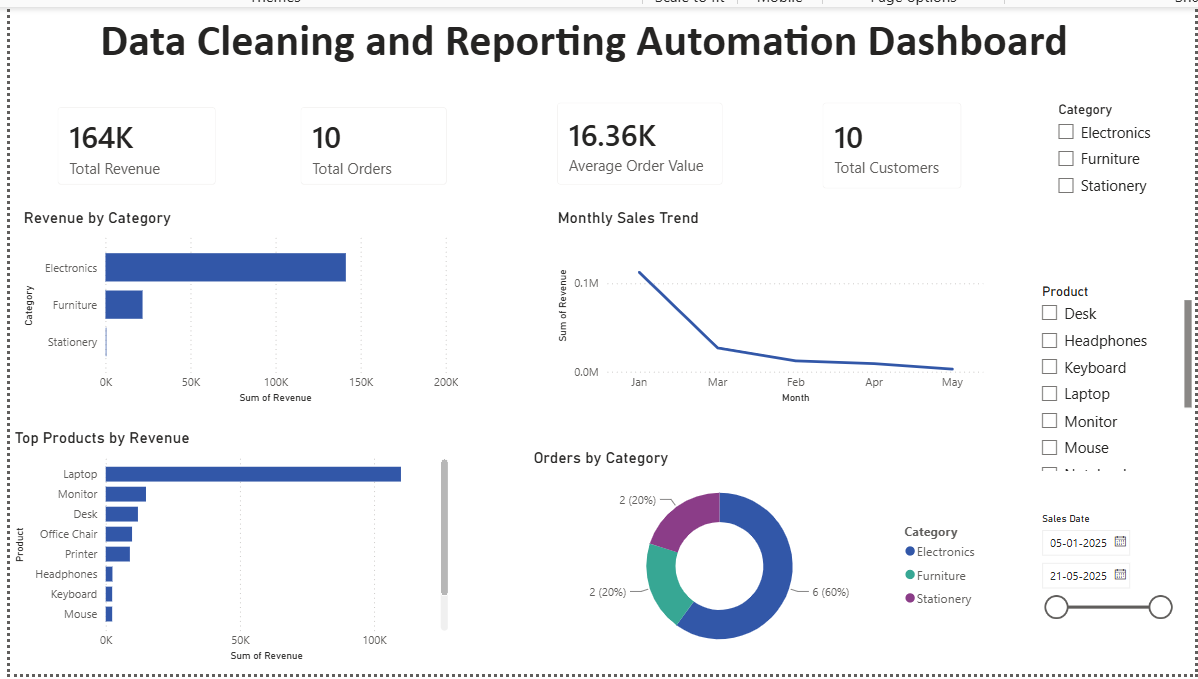

The page's visual inventory and layout, read from the dashboard file:
{"tool":"powerbi","page":{"name":"Page 1","canvas":[1280,720],"ordinal":0},"visuals":[{"type":"cardVisual","fields":{"Data":["cleaned_sales_data.Total Revenue"]},"box":[34,90.7,205.6,118.2],"z":0},{"type":"cardVisual","fields":{"Data":["cleaned_sales_data.Total Orders"]},"box":[296.3,90.7,192.7,118.2],"z":1},{"type":"cardVisual","fields":{"Data":["cleaned_sales_data.Average Order Value"]},"box":[573.2,85.8,213.7,123.1],"z":2},{"type":"cardVisual","fields":{"Data":["cleaned_sales_data.Total Customers"]},"box":[859.8,85.8,184.6,127.9],"z":3},{"type":"clusteredBarChart","title":"Revenue by Category","fields":{"Category":["cleaned_sales_data.Category"],"Y":["Sum(cleaned_sales_data.Revenue)"]},"box":[9.7,217,479.3,215.4],"z":4},{"type":"lineChart","title":"Monthly Sales Trend","fields":{"Category":["cleaned_sales_data.Month"],"Y":["Sum(cleaned_sales_data.Revenue)"]},"box":[586.2,217,469.6,215.4],"z":5},{"type":"clusteredBarChart","title":"Top Products  by Revenue","fields":{"Category":["cleaned_sales_data.Product"],"Y":["Sum(cleaned_sales_data.Revenue)"]},"box":[0,455,477.7,255.8],"z":6},{"type":"donutChart","title":"Orders by Category","fields":{"Category":["cleaned_sales_data.Category"],"Y":["CountNonNull(cleaned_sales_data.Order ID)"]},"box":[560.3,476.1,495.5,234.8],"z":7},{"type":"slicer","fields":{"Values":["cleaned_sales_data.Category"]},"box":[1118.9,97.2,144.1,150.6],"z":8},{"type":"slicer","fields":{"Values":["cleaned_sales_data.Product"]},"box":[1101.1,293.1,179.7,212.1],"z":9},{"type":"slicer","fields":{"Values":["cleaned_sales_data.Sales Date"]},"box":[1101.1,540.8,161.9,134.4],"z":10},{"type":"textbox","box":[92.3,0,1075.2,69.6],"z":11}]}

Visuals, with their boxes on the page's 1280x720 design canvas (x1, y1, x2, y2). These are canvas units, not pixel positions in the 1198x679 screenshot, which may show the page scaled, cropped or inside an application window:
cardVisual - cleaned_sales_data.Total Revenue: 34/91/240/209
cardVisual - cleaned_sales_data.Total Orders: 296/91/489/209
cardVisual - cleaned_sales_data.Average Order Value: 573/86/787/209
cardVisual - cleaned_sales_data.Total Customers: 860/86/1044/214
"Revenue by Category" clusteredBarChart: 10/217/489/432
"Monthly Sales Trend" lineChart: 586/217/1056/432
"Top Products  by Revenue" clusteredBarChart: 0/455/478/711
"Orders by Category" donutChart: 560/476/1056/711
slicer - cleaned_sales_data.Category: 1119/97/1263/248
slicer - cleaned_sales_data.Product: 1101/293/1281/505
slicer - cleaned_sales_data.Sales Date: 1101/541/1263/675
textbox: 92/0/1168/70
